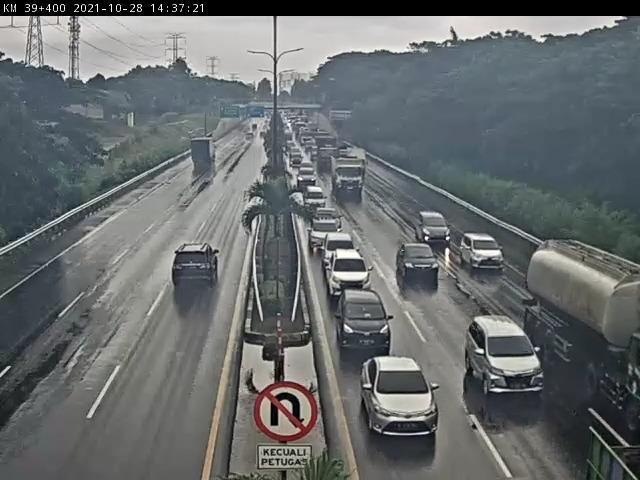car: (362, 354, 445, 440), (468, 313, 547, 401), (335, 292, 395, 355), (325, 248, 378, 300), (171, 243, 224, 287), (397, 243, 442, 289), (458, 232, 508, 271), (413, 211, 455, 245), (305, 217, 343, 253), (321, 232, 359, 262), (317, 206, 346, 230), (304, 187, 330, 212), (297, 167, 317, 187)
truck: (526, 241, 640, 431), (329, 152, 366, 195), (190, 137, 221, 167)
